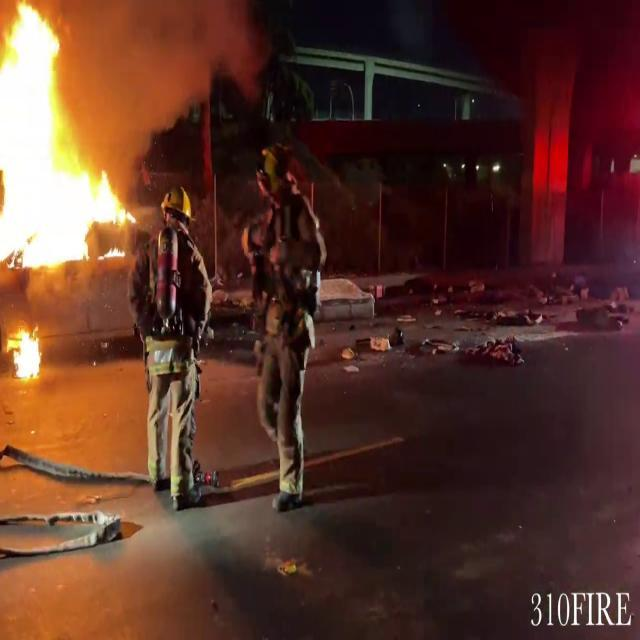Fire: (0, 1, 131, 276), (2, 322, 48, 384)
Smoke: (52, 0, 262, 132)
